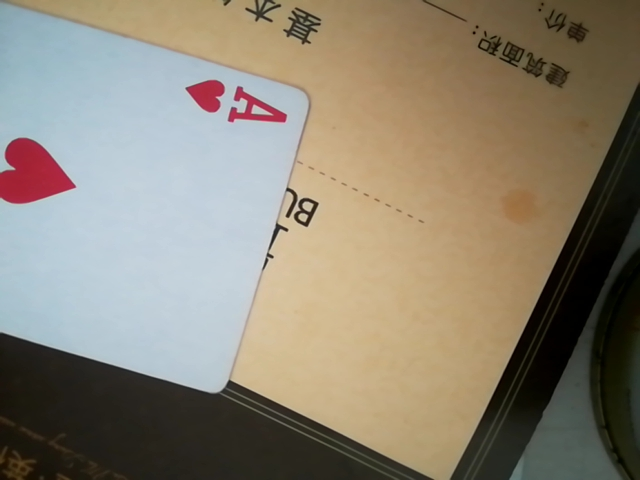hx a: (3, 5, 323, 388)
